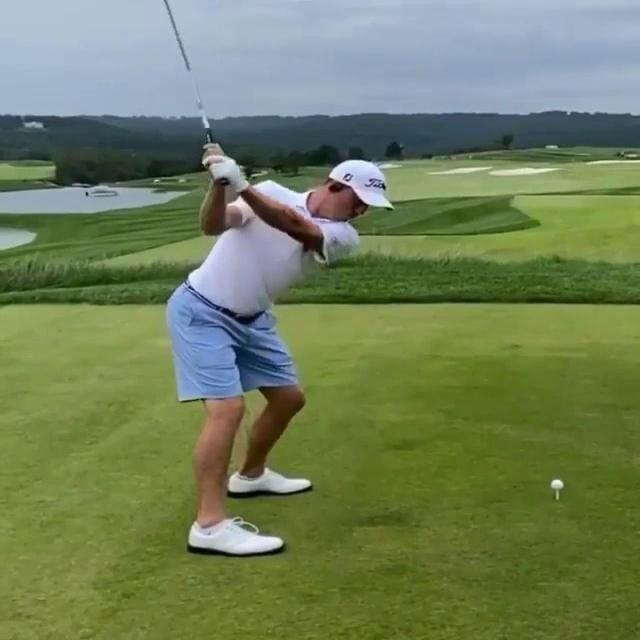GolfBall: (550, 480, 564, 490)
